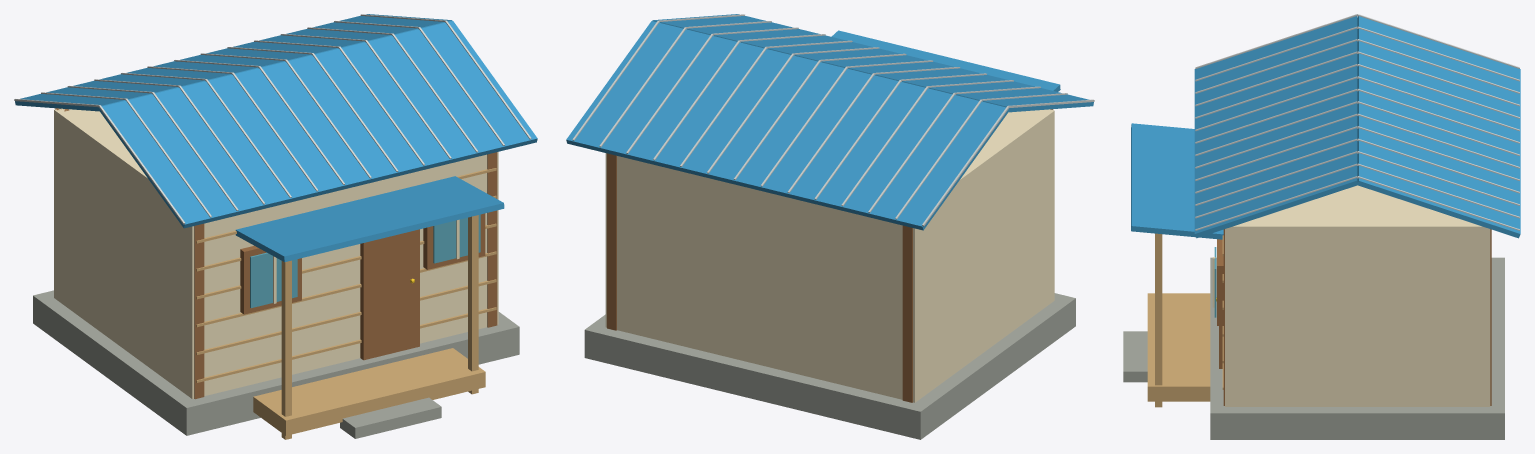
Rendered from TR3_Farmhouse_BlueRoof.glb.
3 views of the same model, side by side, from view 1: azimuth 30°, elevation 25°; view 2: azimuth 150°, elevation 25°; view 3: azimuth 270°, elevation 25° (orthographic). The views are drawn at different scales.
Visible parts, largest first — view 1: TR3_Farmhouse_BlueRoof; view 2: TR3_Farmhouse_BlueRoof; view 3: TR3_Farmhouse_BlueRoof.
Part boxes in pixels (<box>): TR3_Farmhouse_BlueRoof: <box>14,14,537,439</box>; TR3_Farmhouse_BlueRoof: <box>566,14,1094,439</box>; TR3_Farmhouse_BlueRoof: <box>1123,14,1520,439</box>.
Bounding box in the file's own units: 5.31 × 3.97 × 5.39.
